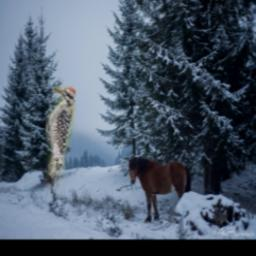Woodpecker: (46, 87, 75, 195)
